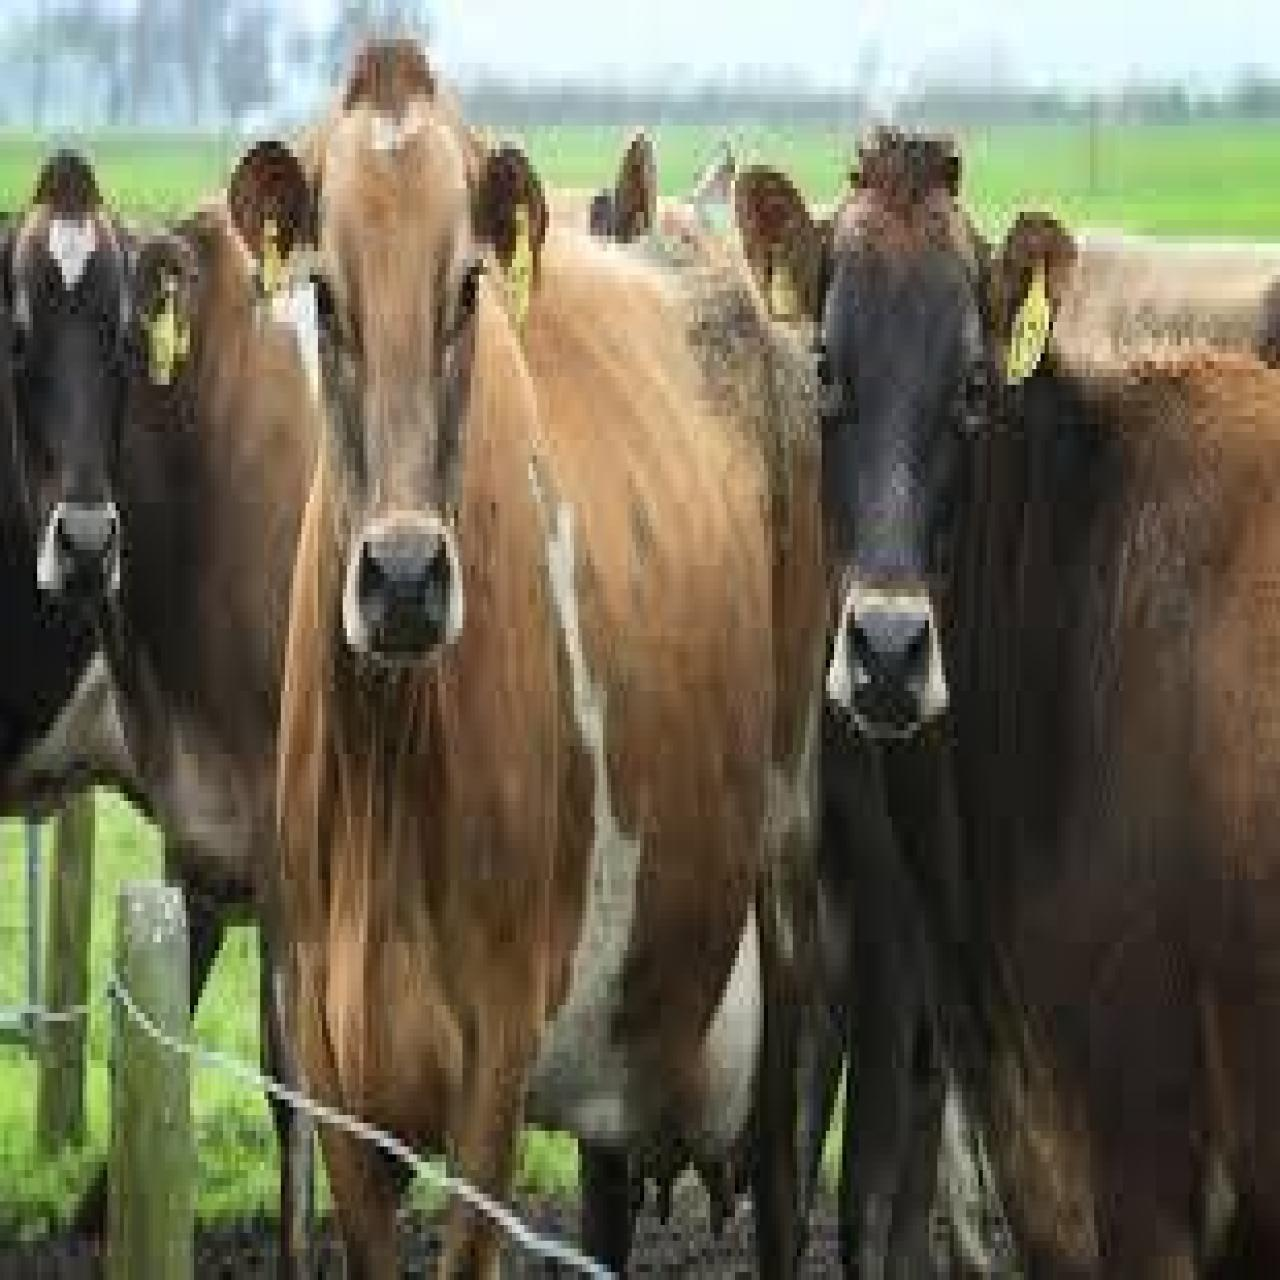cow: (231, 39, 830, 1280), (735, 125, 1280, 1280), (0, 145, 202, 812)
